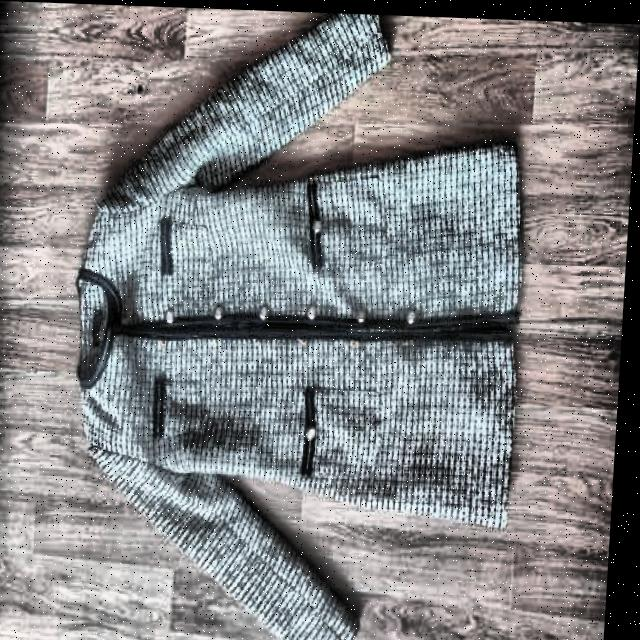clothes: (50, 3, 544, 640)
